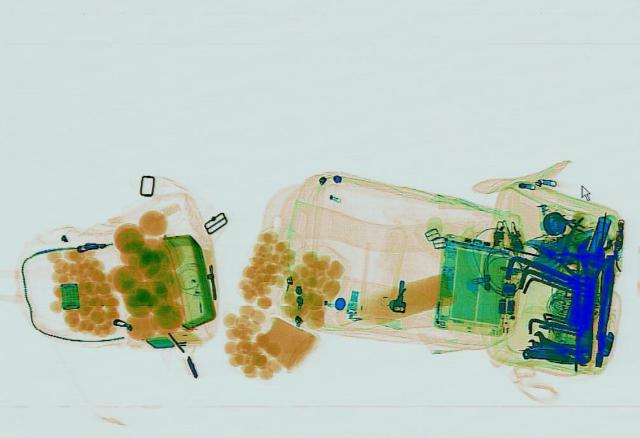Pliers: (522, 234, 602, 278)
Wrench: (520, 328, 596, 365)
